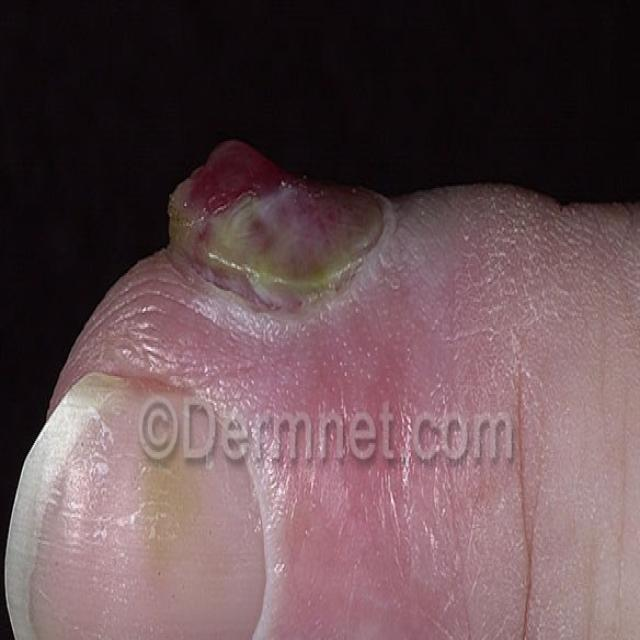Vascular Tumors: (124, 95, 430, 350)
